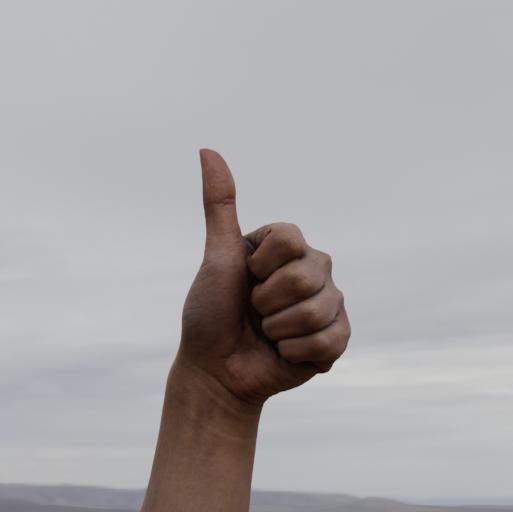thumbs-up: (186, 146, 350, 400)
